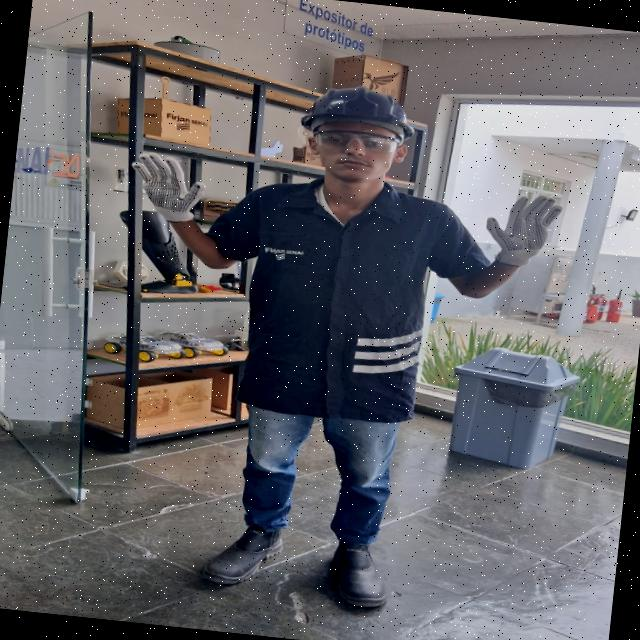BOTA: (201, 520, 291, 586), (335, 543, 394, 611)
CAPACETE: (293, 86, 416, 143)
JALECO: (189, 178, 501, 424)
LUVA: (483, 195, 564, 268), (132, 151, 208, 224)
OCULOS: (313, 129, 399, 156)
